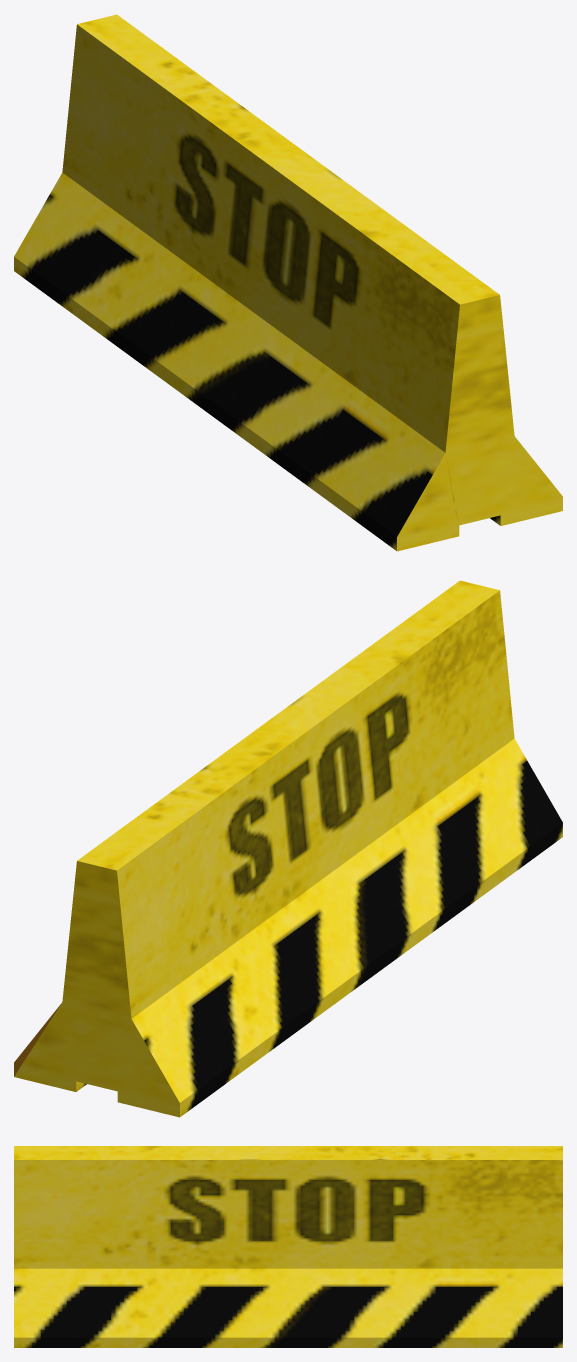
File: barior_1.fbx
3 views of the same model, one above another, from view 1: azimuth 30°, elevation 25°; view 2: azimuth 150°, elevation 25°; view 3: azimuth 270°, elevation 25° (orthographic). The views are drawn at different scales.
Visible parts, largest first — view 1: Barricada_Concreto__5.001; view 2: Barricada_Concreto__5.001; view 3: Barricada_Concreto__5.001.
Boxes of the visible parts, x1=… form: Barricada_Concreto__5.001: x1=14, y1=14, x2=562, y2=551; Barricada_Concreto__5.001: x1=14, y1=580, x2=562, y2=1117; Barricada_Concreto__5.001: x1=14, y1=1146, x2=562, y2=1347.
Bounding box in the file's own units: 12.15 × 16.21 × 48.62.
